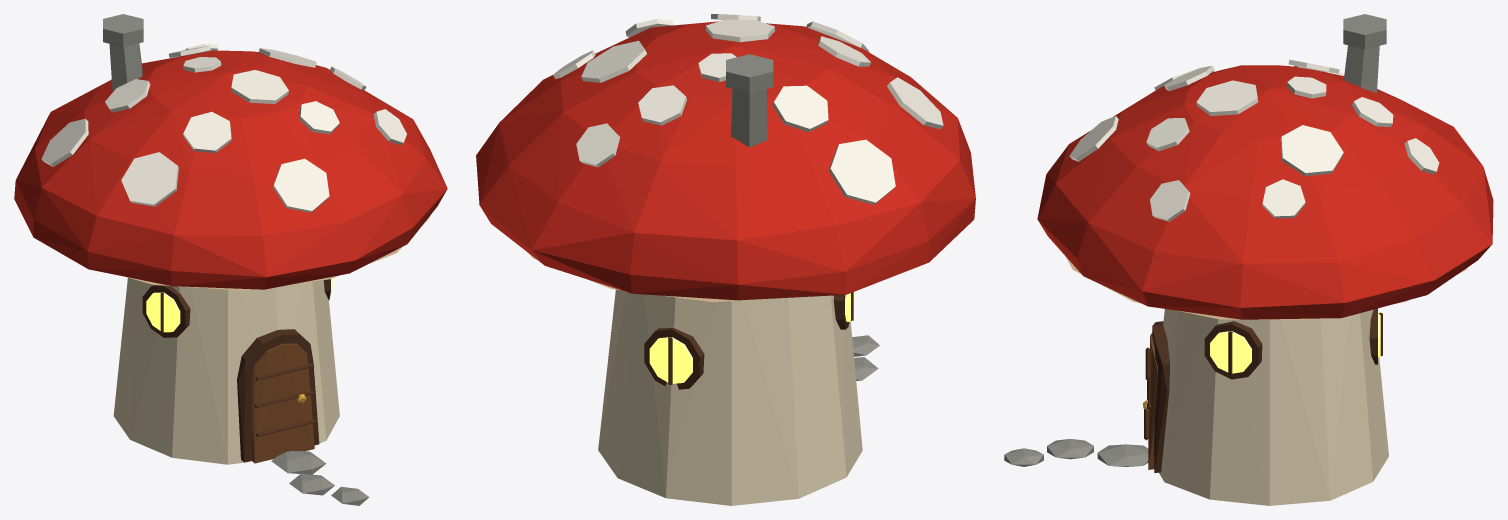
Rendered from mushroom_house.glb.
The picture shows the model from 3 angles, left to right: view 1: azimuth 30°, elevation 25°; view 2: azimuth 150°, elevation 25°; view 3: azimuth 270°, elevation 25°; orthographic projection. The views are drawn at different scales.
Visible parts, largest first — view 1: Cap, Stem, Spots, Door, DoorFrame, Chimney, DoorstepStones, WindowFrame_Left, WindowGlass_Left, DoorPlanks; view 2: Cap, Stem, Spots, Chimney, WindowFrame_Back, WindowGlass_Back, DoorstepStones; view 3: Cap, Stem, Spots, Chimney, DoorstepStones, DoorFrame, WindowFrame_Right, WindowGlass_Right, Door, WindowFrame_Back.
Part boxes in pixels (left/top/right/bottom): Cap: left=14, top=50, right=447, bottom=289; Stem: left=113, top=277, right=339, bottom=464; Spots: left=41, top=44, right=406, bottom=212; Door: left=251, top=343, right=314, bottom=463; DoorFrame: left=237, top=329, right=319, bottom=462; Chimney: left=103, top=14, right=143, bottom=90; DoorstepStones: left=271, top=451, right=369, bottom=505; WindowFrame_Left: left=142, top=285, right=190, bottom=337; WindowGlass_Left: left=146, top=292, right=180, bottom=332; DoorPlanks: left=255, top=363, right=314, bottom=436; Cap: left=476, top=21, right=975, bottom=300; Stem: left=598, top=289, right=862, bottom=505; Spots: left=553, top=14, right=943, bottom=204; Chimney: left=726, top=54, right=773, bottom=147; WindowFrame_Back: left=644, top=328, right=704, bottom=389; WindowGlass_Back: left=649, top=337, right=692, bottom=383; DoorstepStones: left=852, top=335, right=879, bottom=380; Cap: left=1037, top=65, right=1493, bottom=319; Stem: left=1159, top=309, right=1388, bottom=505; Spots: left=1069, top=59, right=1439, bottom=221; Chimney: left=1343, top=14, right=1386, bottom=92; DoorstepStones: left=1004, top=439, right=1148, bottom=466; DoorFrame: left=1152, top=321, right=1170, bottom=472; WindowFrame_Right: left=1204, top=321, right=1262, bottom=379; WindowGlass_Right: left=1210, top=331, right=1251, bottom=373; Door: left=1148, top=333, right=1157, bottom=469; WindowFrame_Back: left=1369, top=308, right=1382, bottom=364.
Bounding box in the file's own units: 4.93 × 4.8 × 5.28.
